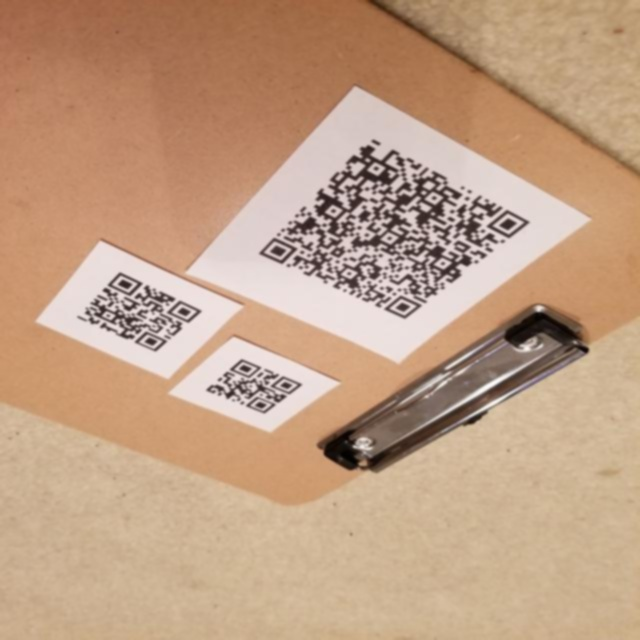qr-code: (231, 130, 555, 330), (64, 265, 211, 363), (193, 354, 311, 428)
